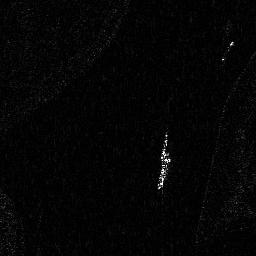ship: (155, 150, 171, 191)
